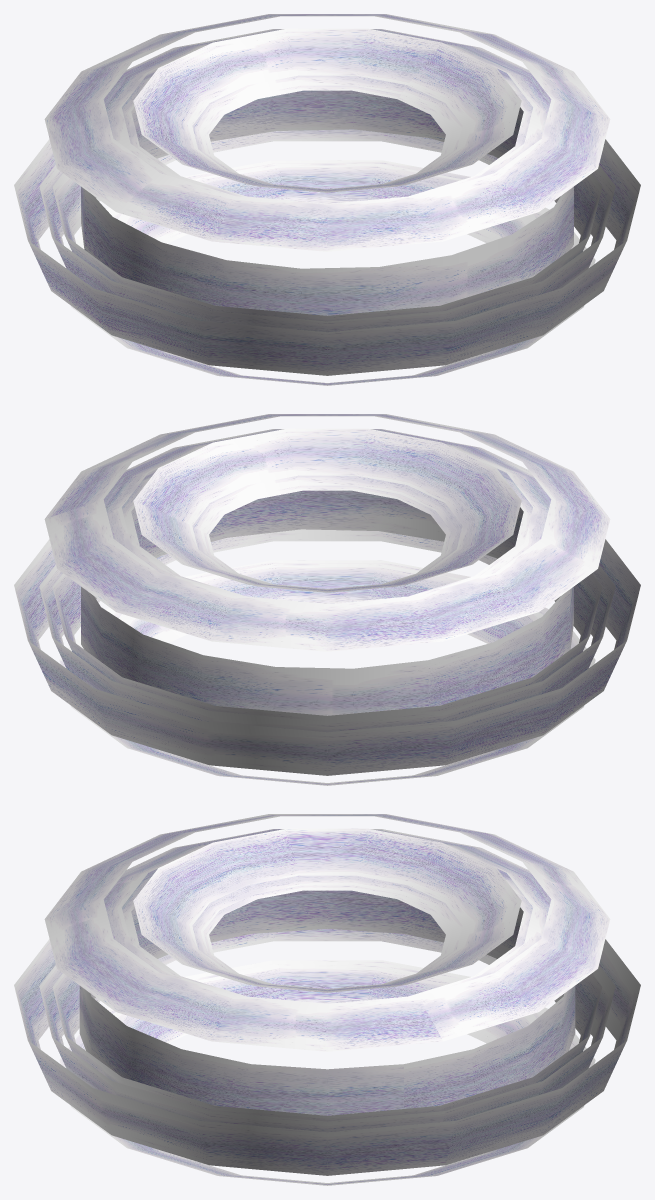
The model's file is pm-transition-efect-01.glb.
The picture shows the model from 3 angles, top to bottom: view 1: azimuth 30°, elevation 25°; view 2: azimuth 150°, elevation 25°; view 3: azimuth 270°, elevation 25°; orthographic projection.
Parts seen in each view (by area): view 1: TransitionEfect_01; view 2: TransitionEfect_01; view 3: TransitionEfect_01.
Boxes of the visible parts, box(x1,y1,x2,y2) form: TransitionEfect_01: box(14, 14, 640, 385); TransitionEfect_01: box(14, 414, 640, 785); TransitionEfect_01: box(14, 814, 640, 1185).
Bounding box in the file's own units: 6.45 × 2.11 × 6.49.
1 material, 1 textured.
